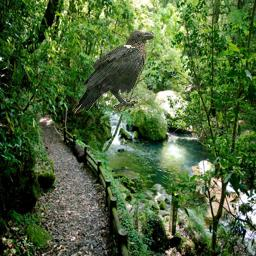Crow: (72, 30, 154, 114)
